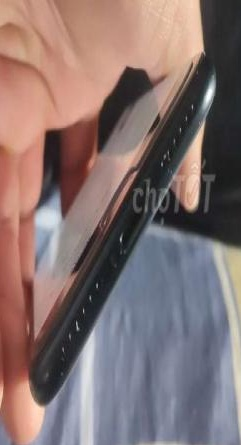scratch: (37, 367, 69, 397), (106, 243, 129, 279), (189, 61, 206, 89), (167, 162, 177, 187)
